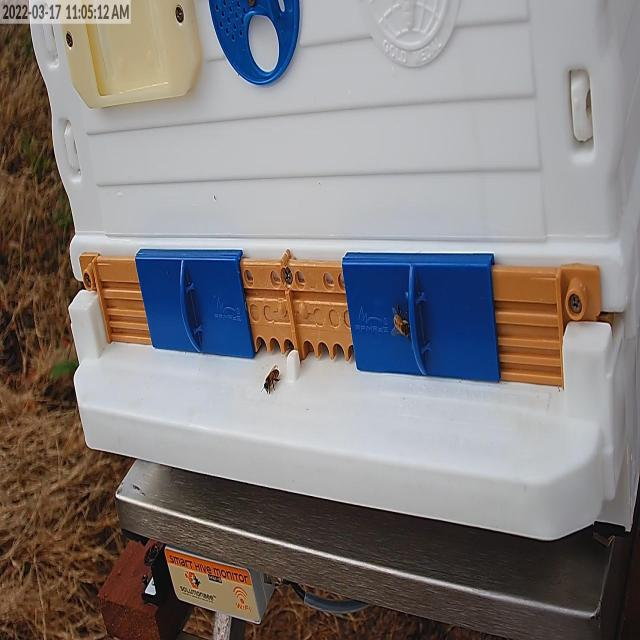honeybee: (389, 289, 418, 363), (266, 365, 286, 424)
